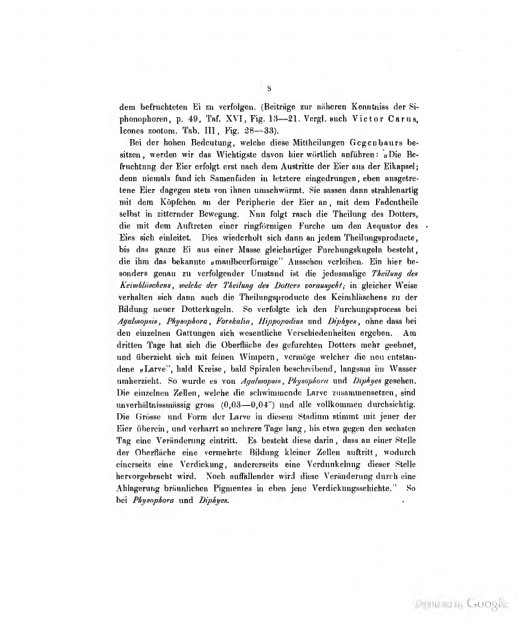MainZone: (111, 97, 428, 511)
NoiseZone: (402, 589, 517, 625)
NumberingZone_page: (260, 81, 280, 99)
